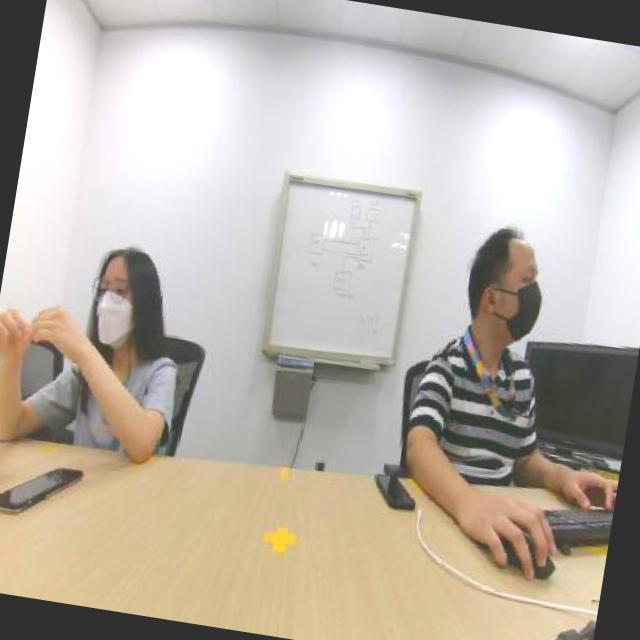Person: (381, 177, 585, 486), (0, 179, 209, 461)
